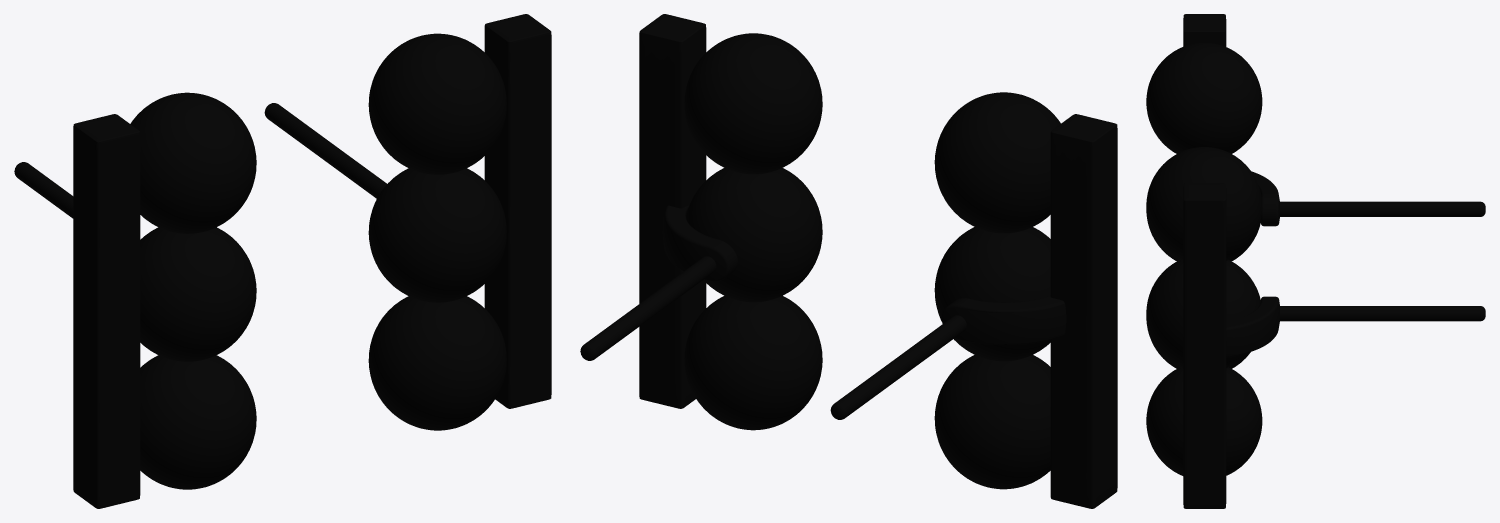
The model's file is ring1.gltf.
3 views of the same model, side by side, from view 1: azimuth 30°, elevation 25°; view 2: azimuth 150°, elevation 25°; view 3: azimuth 270°, elevation 25° (orthographic). The views are drawn at different scales.
Visible parts, largest first — view 1: Mesh_Pearl (×6), Mesh_Cube (×2), Diamond_Round(1)[1][2] (×2); view 2: Mesh_Pearl (×6), Mesh_Cube (×2), Diamond_Round(1)[1][1] (×2), Diamond_Round(1)[1][2] (×2); view 3: Mesh_Pearl (×4), Mesh_Cube (×2), Diamond_Round(1)[1][2] (×2), Diamond_Round(1)[1][1] (×2).
Part boxes in pixels (x1,y1,x2,y2): Mesh_Pearl (×6): [130, 33, 506, 489]; Mesh_Cube (×2): [73, 14, 551, 508]; Diamond_Round(1)[1][2] (×2): [14, 103, 386, 218]; Mesh_Pearl (×6): [684, 33, 1060, 489]; Mesh_Cube (×2): [639, 14, 1117, 508]; Diamond_Round(1)[1][1] (×2): [662, 205, 1066, 344]; Diamond_Round(1)[1][2] (×2): [580, 256, 966, 419]; Mesh_Pearl (×4): [1146, 42, 1262, 475]; Mesh_Cube (×2): [1183, 14, 1226, 508]; Diamond_Round(1)[1][2] (×2): [1280, 201, 1485, 321]; Diamond_Round(1)[1][1] (×2): [1226, 171, 1279, 357].
Size of the model in its own units: 0.0248 by 0.0201 by 0.019.
Materials: 2 (1 with a texture image).
